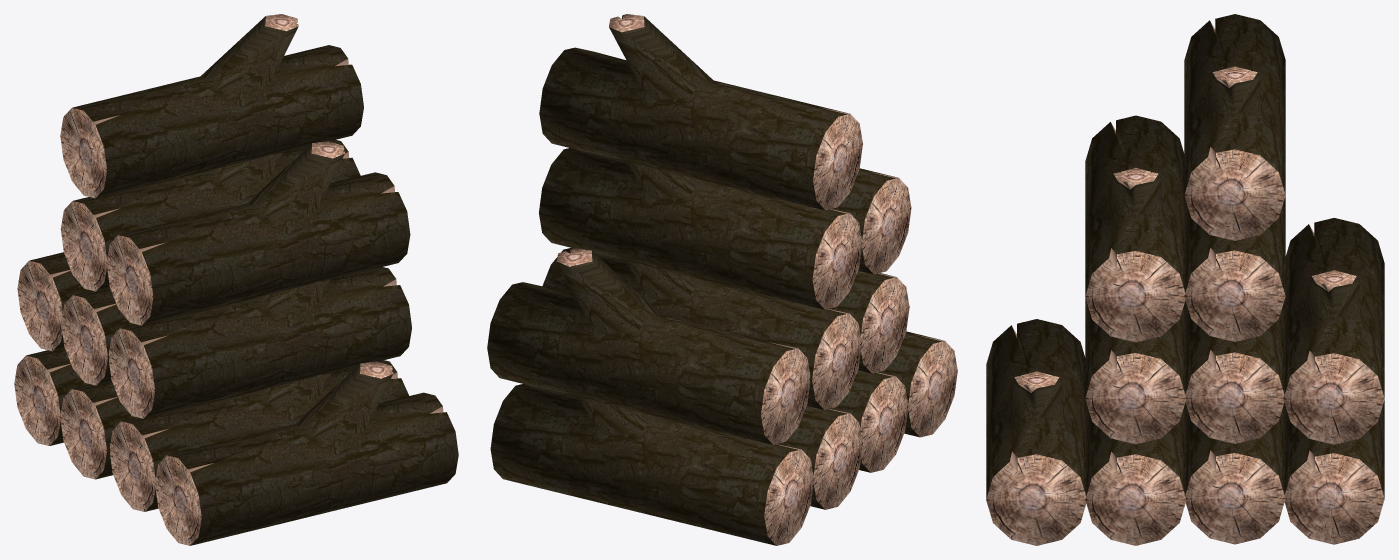
The model's file is LogPile_BlueWillow.glb.
The picture shows the model from 3 angles, left to right: view 1: azimuth 30°, elevation 25°; view 2: azimuth 150°, elevation 25°; view 3: azimuth 270°, elevation 25°; orthographic projection. The views are drawn at different scales.
Parts seen in each view (by area): view 1: LogPile_BlueWillow; view 2: LogPile_BlueWillow; view 3: LogPile_BlueWillow.
Part boxes in pixels (<box>): LogPile_BlueWillow: <box>14,14,458,545</box>; LogPile_BlueWillow: <box>487,14,957,545</box>; LogPile_BlueWillow: <box>986,14,1384,545</box>.
Bounding box in the file's own units: 3.42 × 5.11 × 4.2.
Materials: 2 (2 with a texture image).
